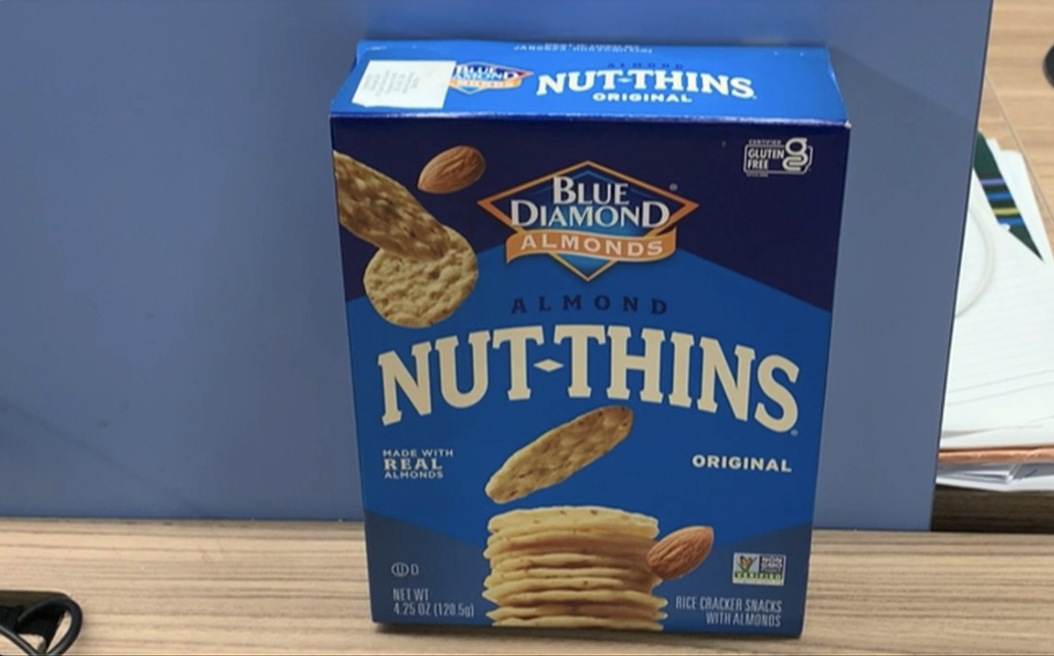crackers_150g: (372, 133, 803, 624)
